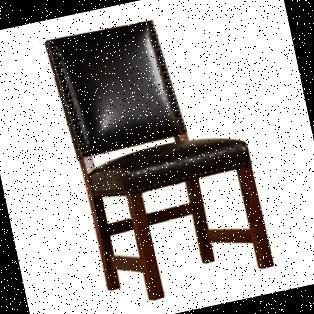Silla: (46, 4, 276, 310)
